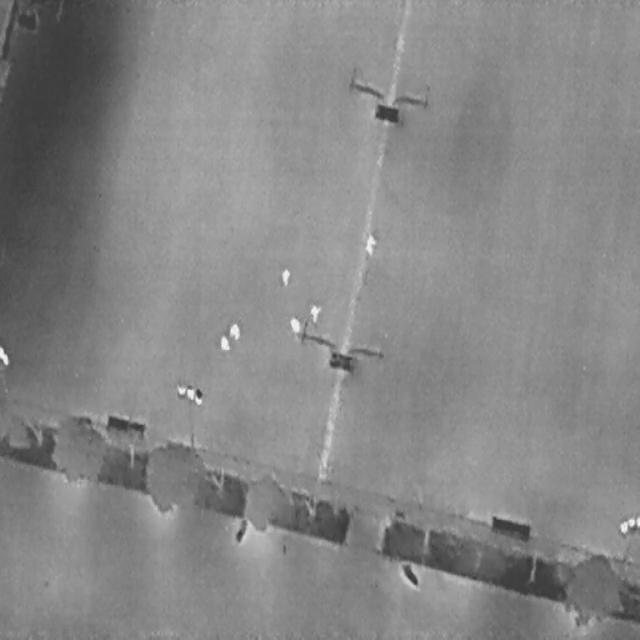Person: (364, 233, 375, 255), (310, 301, 321, 321), (290, 314, 300, 335), (219, 332, 229, 350), (229, 321, 239, 339), (281, 266, 289, 285)
